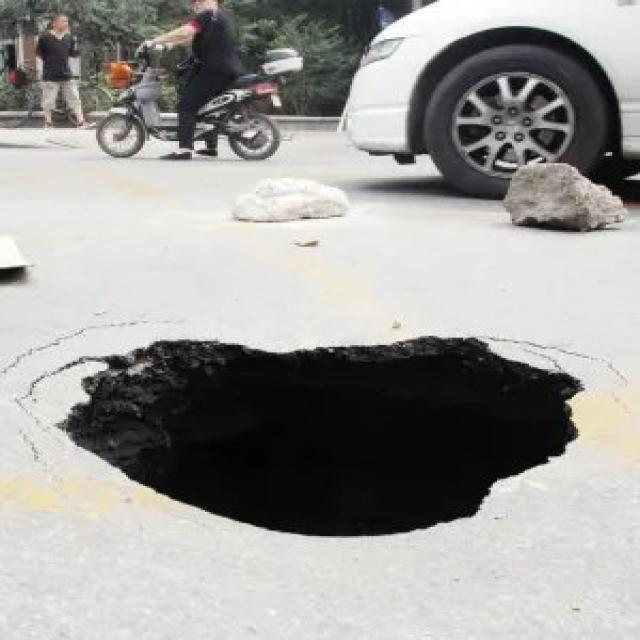Buraco: (49, 331, 590, 543)
